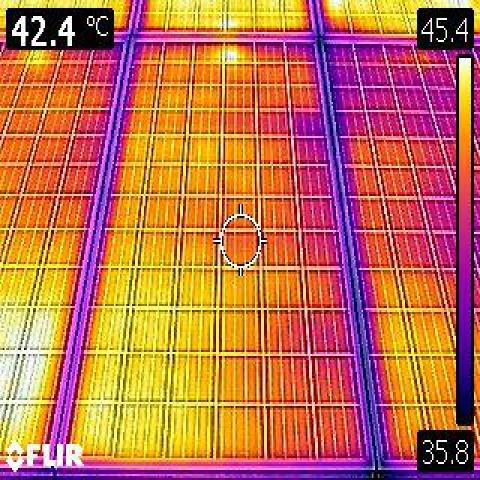fault: (2, 309, 54, 438), (215, 13, 238, 34), (218, 44, 239, 63)
